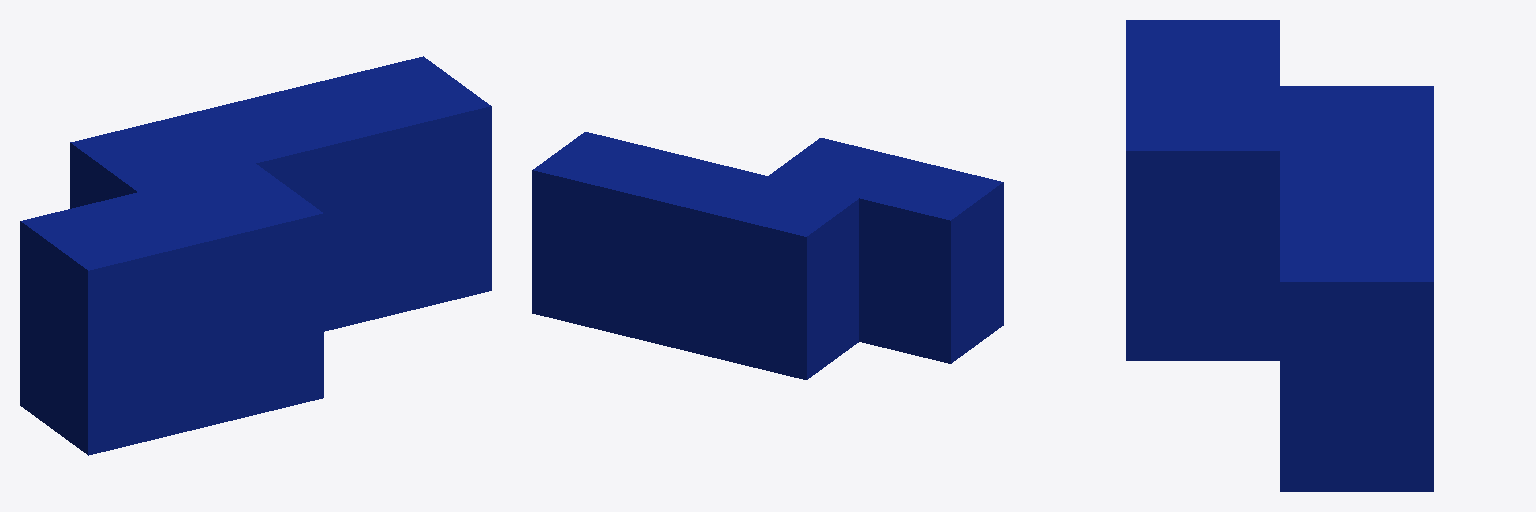
robot.urdf — block:
<robot name="block">
  <link name="block_base_link">
    <inertial>
      <origin rpy="0 0 0" xyz="-0.042 0.062 0.015"/>
      <mass value="0.5"/>
      <inertia ixx="1.226e-05" ixy="8.64e-06" ixz="0.0" iyy="3.146e-05" iyz="0.0" izz="3.472e-05"/>
    </inertial>
    <collision>
      
      <geometry>
        <mesh filename="2.STL" scale="1 1 1"/>
      </geometry>
    </collision>
    <visual>
 
      <geometry>
        <mesh filename="2.STL" scale="1 1 1"/>
      </geometry>
      <material name="tray_material">
        <color rgba="0.1 0.2 0.6 1"/>
      </material>
    </visual>
  </link>
</robot>

--- Facts derived from the render (not from the file) ---
The picture shows the robot from 3 angles, left to right: view 1: azimuth 30°, elevation 25°; view 2: azimuth 150°, elevation 25°; view 3: azimuth 270°, elevation 25°; orthographic projection.
Model block with 1 links and 0 joints (none), rooted at block_base_link, posed every joint at zero.
Links seen in each view (by area): view 1: block_base_link; view 2: block_base_link; view 3: block_base_link.
Link boxes in pixels (x1,y1,x2,y2): block_base_link: [20, 56, 491, 455]; block_base_link: [532, 132, 1003, 379]; block_base_link: [1126, 20, 1433, 491].
Size in the robot's own frame: 0.08 by 0.04 by 0.03 metres.
1 mesh visuals loaded from 1 distinct referenced files (1 binary STL).